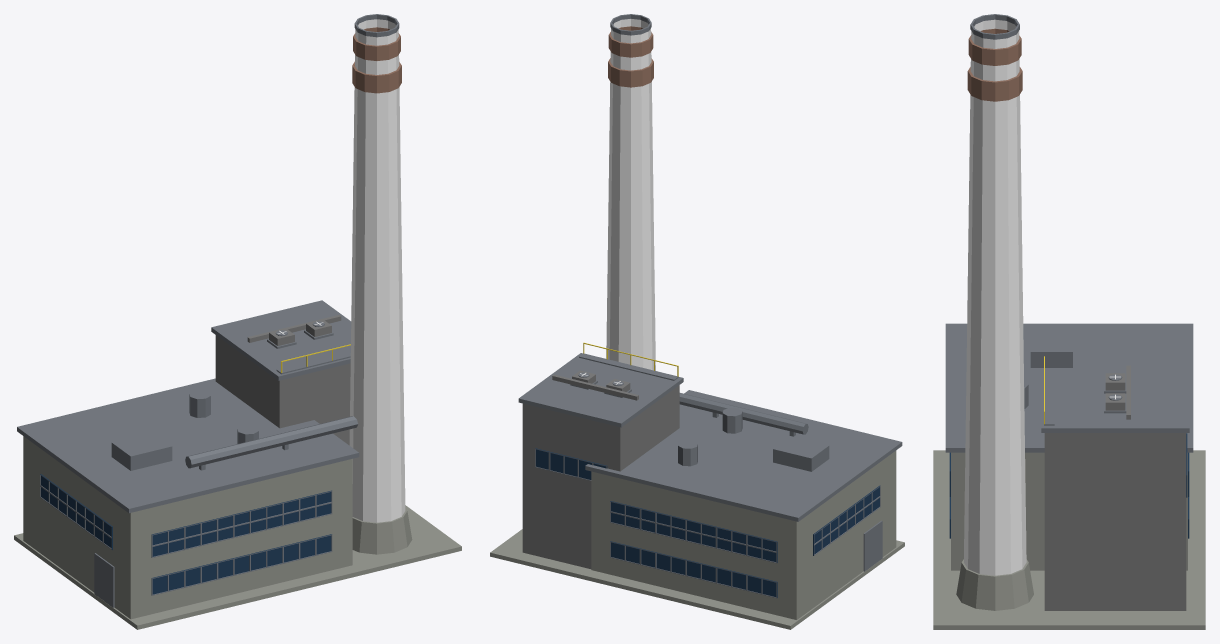
File: mashup-main-mid-prebuilt_close.fbx
The picture shows the model from 3 angles, left to right: view 1: azimuth 30°, elevation 25°; view 2: azimuth 150°, elevation 25°; view 3: azimuth 270°, elevation 25°; orthographic projection. The views are drawn at different scales.
Parts seen in each view (by area): view 1: ChemPlant_BuildingChimney.001; view 2: ChemPlant_BuildingChimney.001; view 3: ChemPlant_BuildingChimney.001.
Part boxes in pixels (bbox=[...]): ChemPlant_BuildingChimney.001: bbox=[14, 14, 461, 629]; ChemPlant_BuildingChimney.001: bbox=[490, 14, 904, 629]; ChemPlant_BuildingChimney.001: bbox=[933, 14, 1205, 629].
Size of the model in its own units: 23.6 by 35.87 by 15.4.
